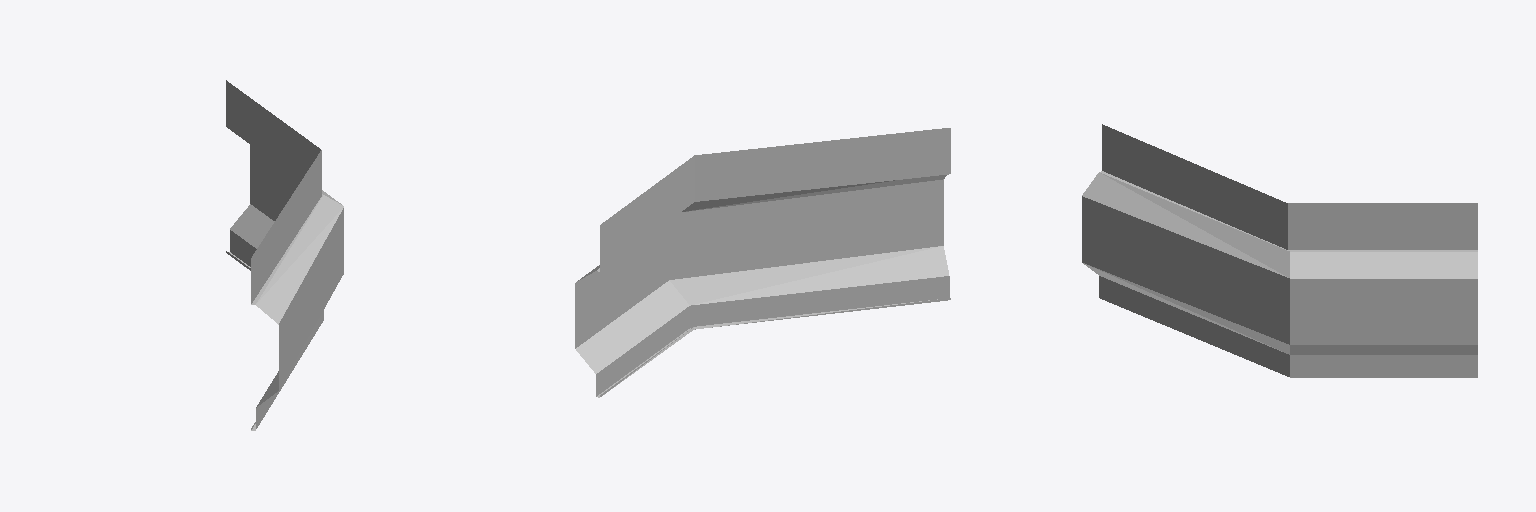
Rendered from greybox_wall_interior_corner_02.obj.
3 renders of one model, left to right at view 1: azimuth 30°, elevation 25°; view 2: azimuth 150°, elevation 25°; view 3: azimuth 270°, elevation 25°, orthographic.
Visible parts, largest first — view 1: pCube8; view 2: pCube8; view 3: pCube8.
Boxes of the visible parts, box(x1,y1,x2,y2) form: pCube8: box(226, 80, 343, 430); pCube8: box(575, 128, 950, 397); pCube8: box(1082, 124, 1477, 377).
Bounding box in the file's own units: 4.6 × 4.06 × 8.44.